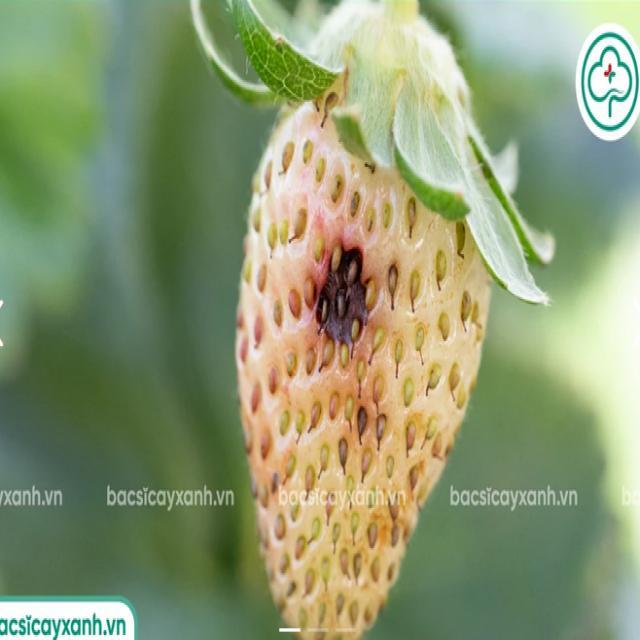Mancha negra Antracnosis: (240, 80, 487, 630)
